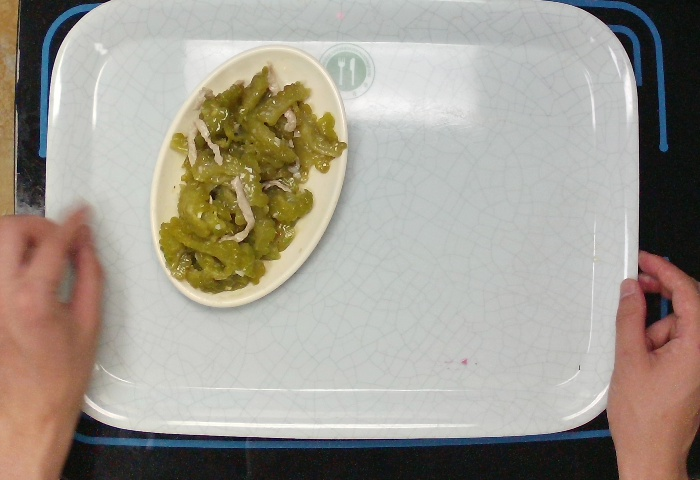JYsf-Tuo_Yuan_Wan: (144, 44, 351, 309)
